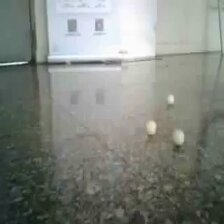w: (171, 129, 185, 147), (146, 120, 157, 135), (166, 94, 175, 105)
